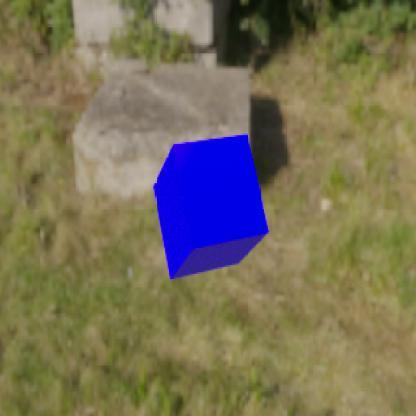blue_cube: (152, 132, 269, 280)
